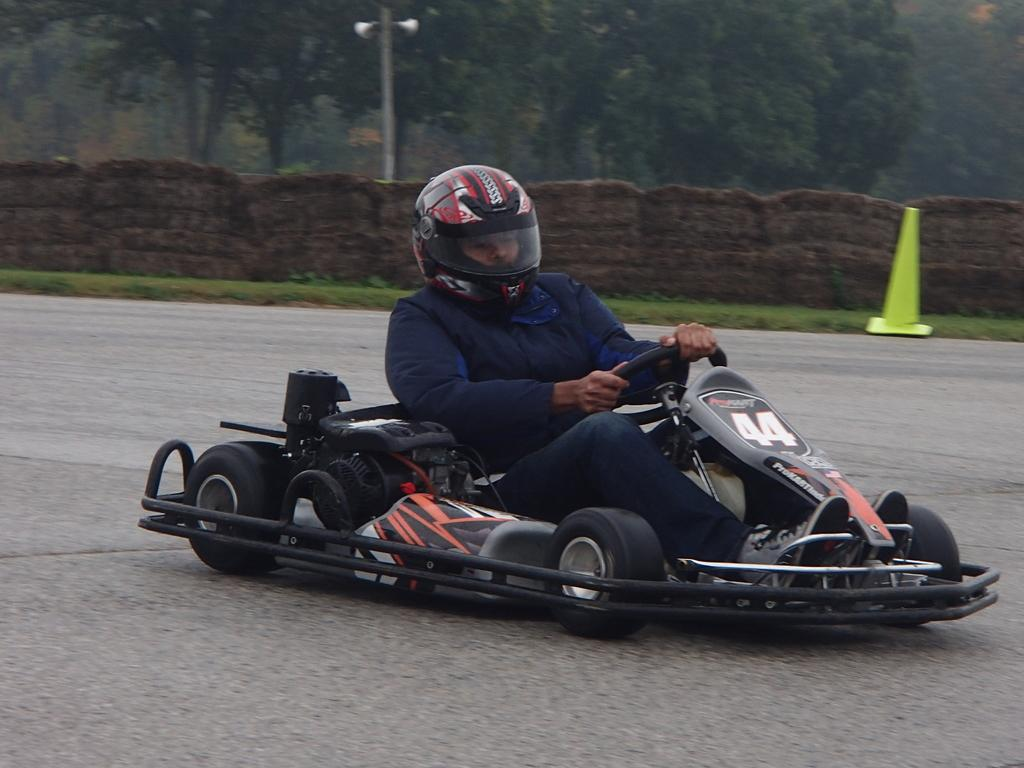helmet: (411, 164, 542, 310)
